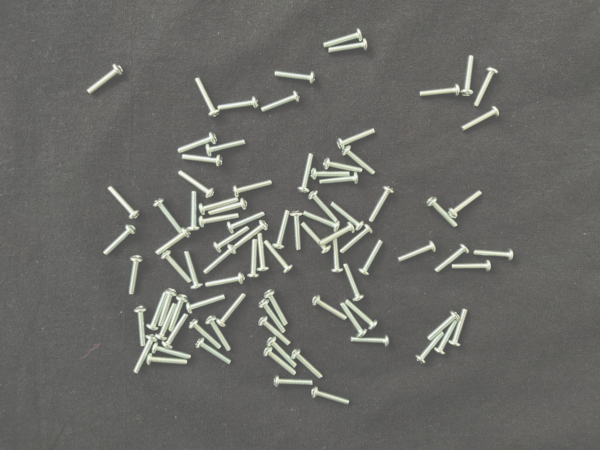longscrew: (86, 61, 125, 97), (231, 220, 269, 253), (258, 89, 303, 116), (425, 196, 460, 230), (107, 186, 141, 221), (176, 171, 217, 200), (101, 224, 137, 257), (153, 198, 184, 236), (473, 66, 500, 109), (160, 250, 193, 285), (188, 318, 223, 351), (257, 316, 293, 348), (263, 239, 295, 275), (216, 293, 248, 329), (434, 243, 471, 274), (194, 76, 221, 118), (195, 338, 234, 367), (299, 221, 332, 255), (460, 105, 500, 133), (339, 223, 374, 255), (426, 310, 461, 342), (344, 299, 379, 331), (414, 330, 445, 366), (339, 302, 369, 339), (154, 228, 192, 257), (357, 239, 385, 278), (266, 336, 299, 369), (291, 349, 325, 381), (202, 245, 237, 276), (369, 184, 396, 224), (448, 189, 484, 219), (161, 312, 190, 349), (132, 334, 158, 375), (311, 295, 349, 323), (212, 226, 250, 254), (342, 145, 377, 175), (330, 201, 365, 231), (263, 347, 298, 377), (258, 299, 287, 335), (175, 131, 218, 155), (206, 315, 233, 353), (308, 190, 339, 223), (225, 211, 267, 235), (397, 240, 437, 265), (434, 319, 460, 357), (264, 289, 290, 327), (336, 127, 377, 151), (186, 293, 227, 316), (318, 222, 355, 247), (146, 290, 168, 332), (302, 211, 342, 234), (323, 28, 364, 50), (448, 308, 470, 349), (154, 303, 177, 342), (198, 196, 240, 217), (157, 287, 178, 329), (343, 262, 365, 302), (311, 386, 351, 408), (205, 137, 246, 158), (151, 341, 193, 361), (168, 294, 189, 334), (207, 197, 248, 217), (272, 208, 291, 251), (204, 271, 247, 290), (216, 95, 261, 113), (184, 250, 204, 290), (232, 180, 274, 199), (296, 153, 315, 194), (327, 37, 369, 55), (419, 81, 461, 99), (127, 254, 145, 296), (322, 157, 365, 174), (460, 55, 476, 99), (272, 69, 318, 84), (198, 213, 240, 229), (473, 248, 516, 263), (187, 190, 202, 233), (133, 305, 148, 348), (318, 171, 360, 186), (246, 239, 261, 281), (180, 154, 224, 168), (451, 260, 493, 274), (256, 232, 270, 274), (144, 354, 189, 367), (273, 375, 314, 389), (330, 235, 344, 275), (291, 209, 304, 252), (349, 335, 391, 348), (310, 168, 351, 181)
